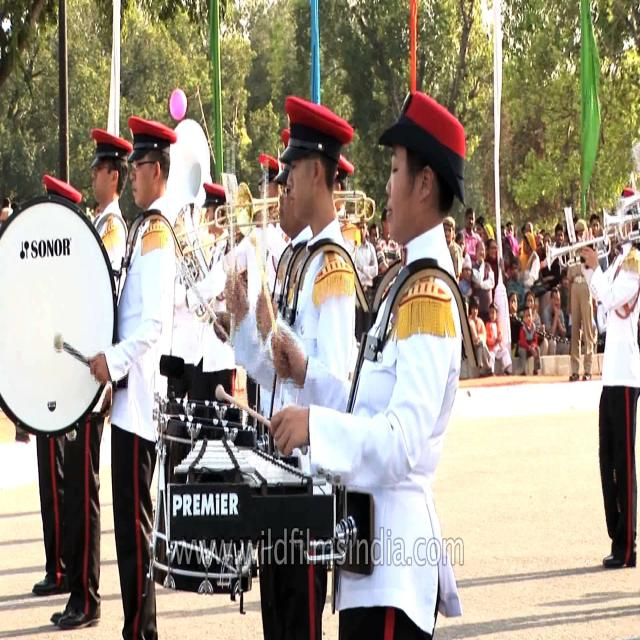body: (267, 88, 468, 639), (221, 95, 360, 640), (222, 118, 344, 640), (86, 112, 178, 640), (46, 127, 136, 636), (576, 186, 640, 573), (27, 173, 83, 599), (190, 181, 236, 403), (250, 119, 279, 282), (566, 217, 594, 381), (351, 212, 378, 343), (325, 149, 358, 229), (376, 207, 402, 304), (476, 213, 534, 251), (466, 294, 494, 372), (470, 240, 495, 326), (540, 286, 570, 357), (518, 290, 549, 358), (485, 301, 512, 377), (517, 230, 541, 313), (516, 305, 542, 376), (458, 206, 482, 270), (442, 215, 463, 285), (506, 256, 526, 313), (484, 238, 499, 310), (508, 290, 523, 358), (172, 194, 196, 234), (458, 251, 475, 303), (87, 192, 110, 225), (550, 222, 566, 267), (0, 198, 19, 235), (498, 248, 515, 288), (536, 231, 553, 264), (454, 230, 466, 266), (368, 220, 382, 248), (589, 212, 601, 238), (585, 226, 594, 242), (563, 227, 570, 246), (538, 226, 546, 237), (598, 210, 602, 228)
